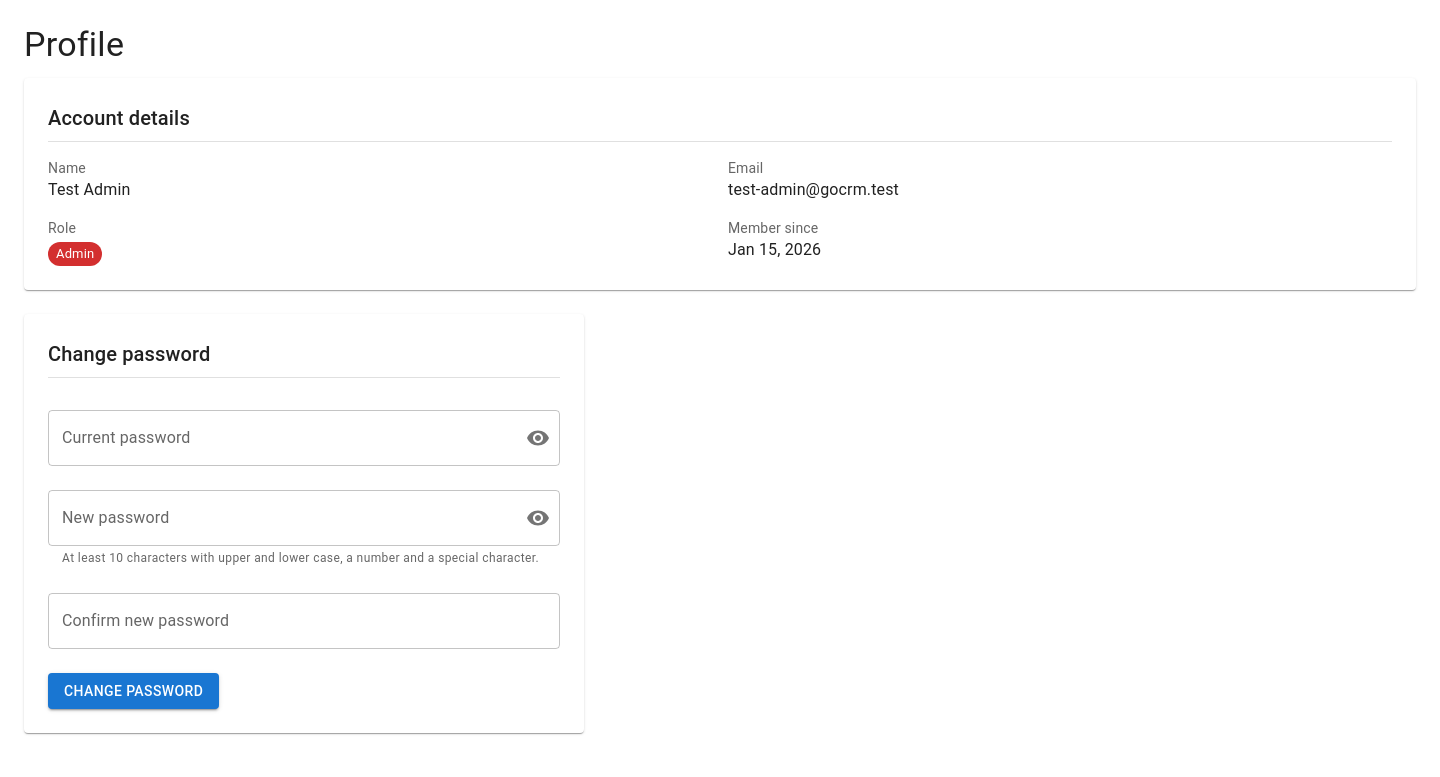
Test: Profile › changes the password and reports that other sessions were signed out
The image size is (1440, 777).
In the password field labelled "Current password": [279, 438] box [48, 410, 510, 466], type "OldStrongPass1!"
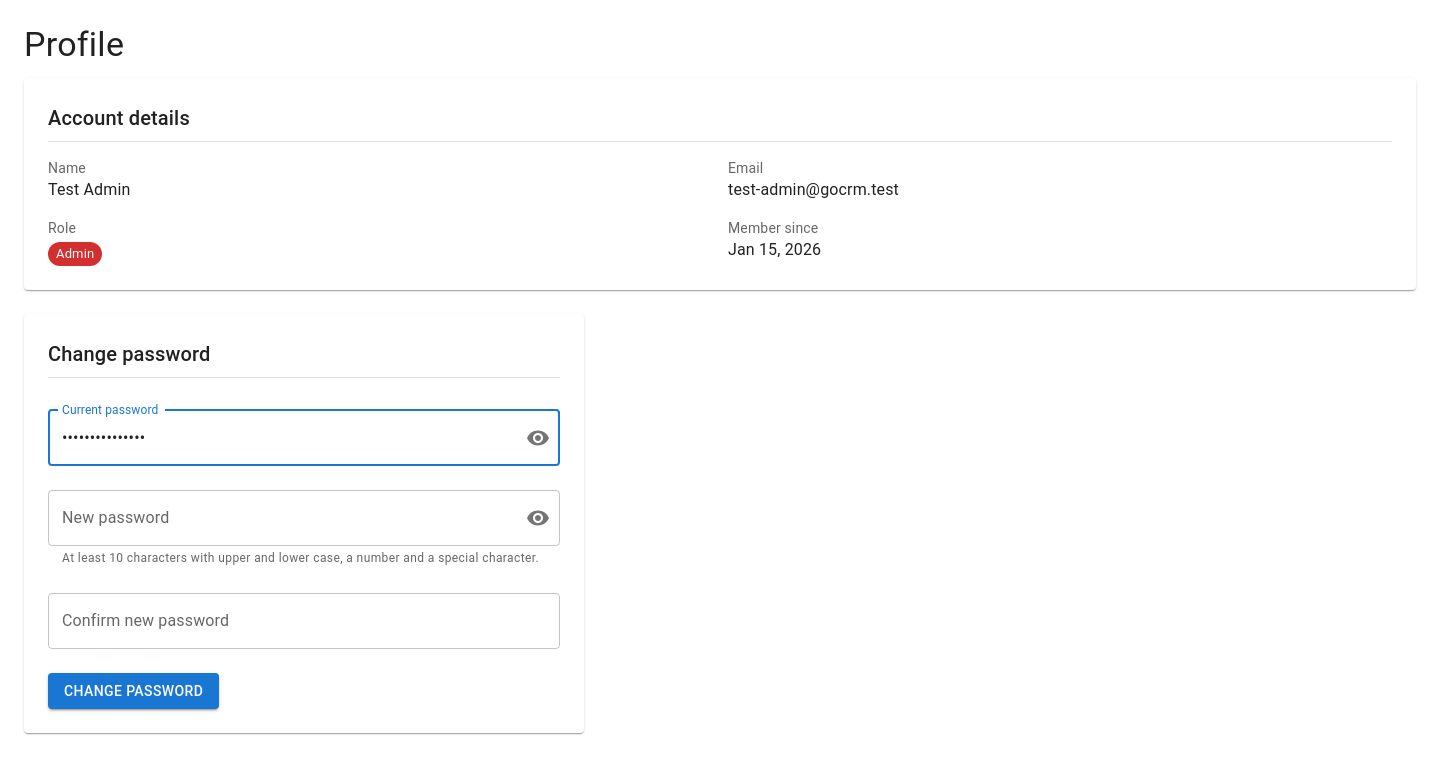
In the password field labelled "New password": [279, 518] box [48, 490, 510, 546], type "NewStrongPass1!"
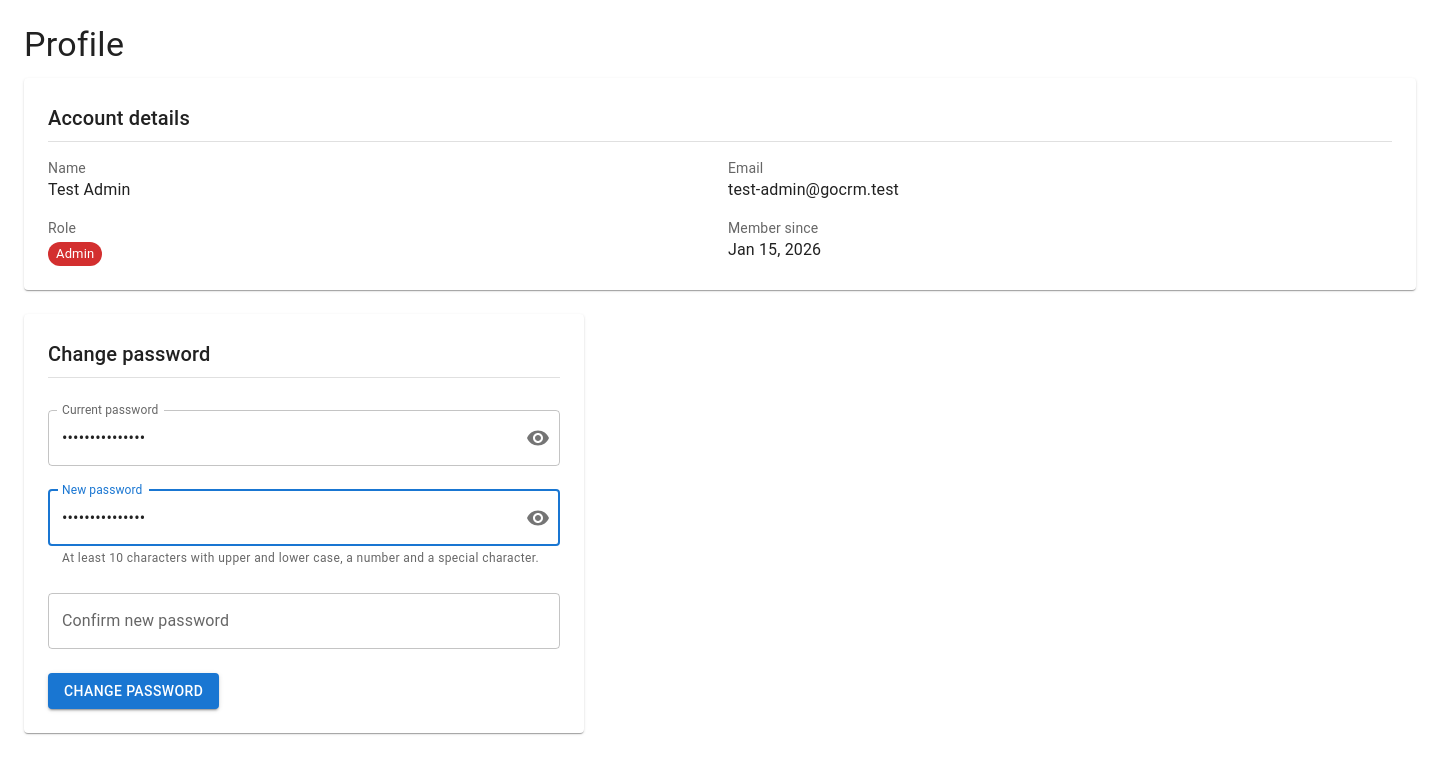
In the password field labelled "Confirm new password": [304, 621] box [48, 593, 560, 649], type "NewStrongPass1!"
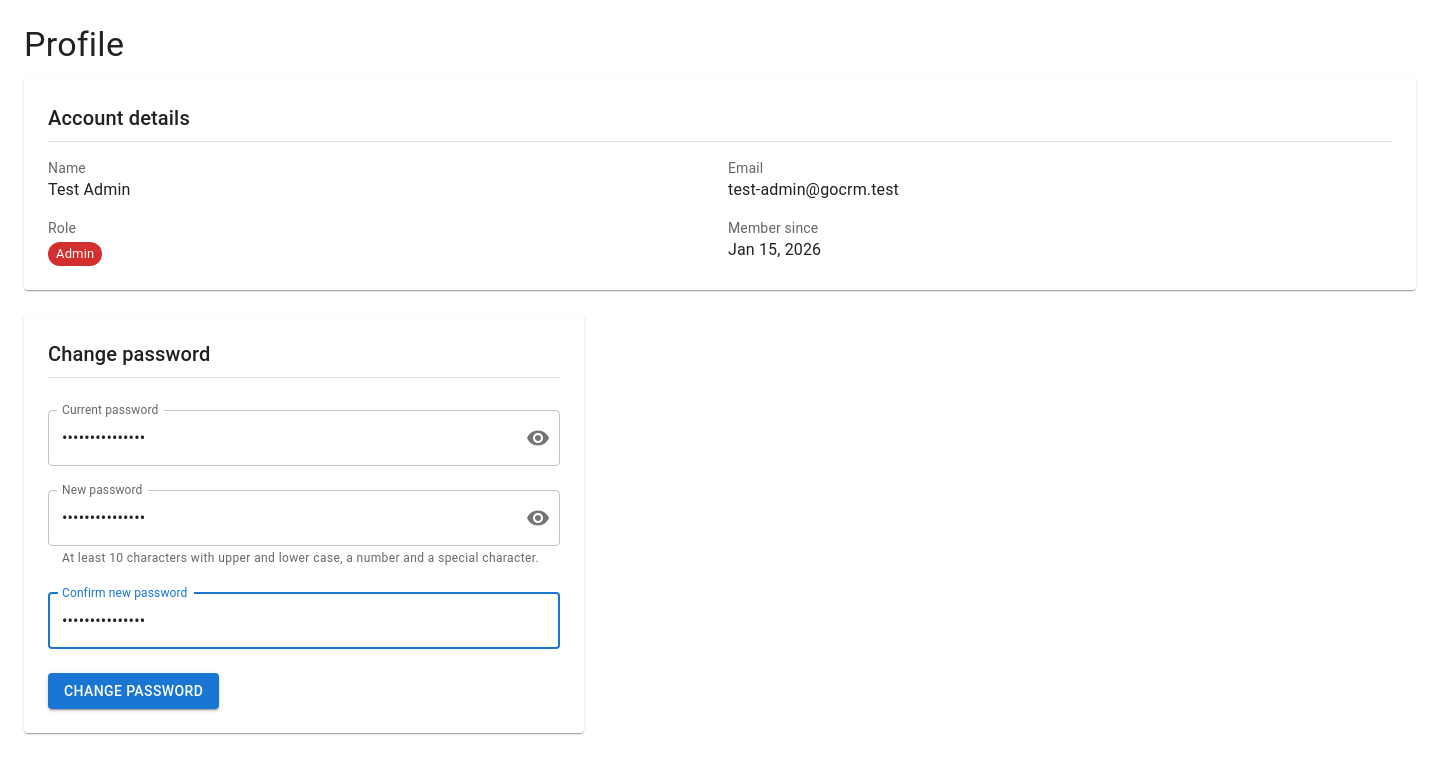
Click the button "Change password": [134, 691] box [48, 673, 219, 709]
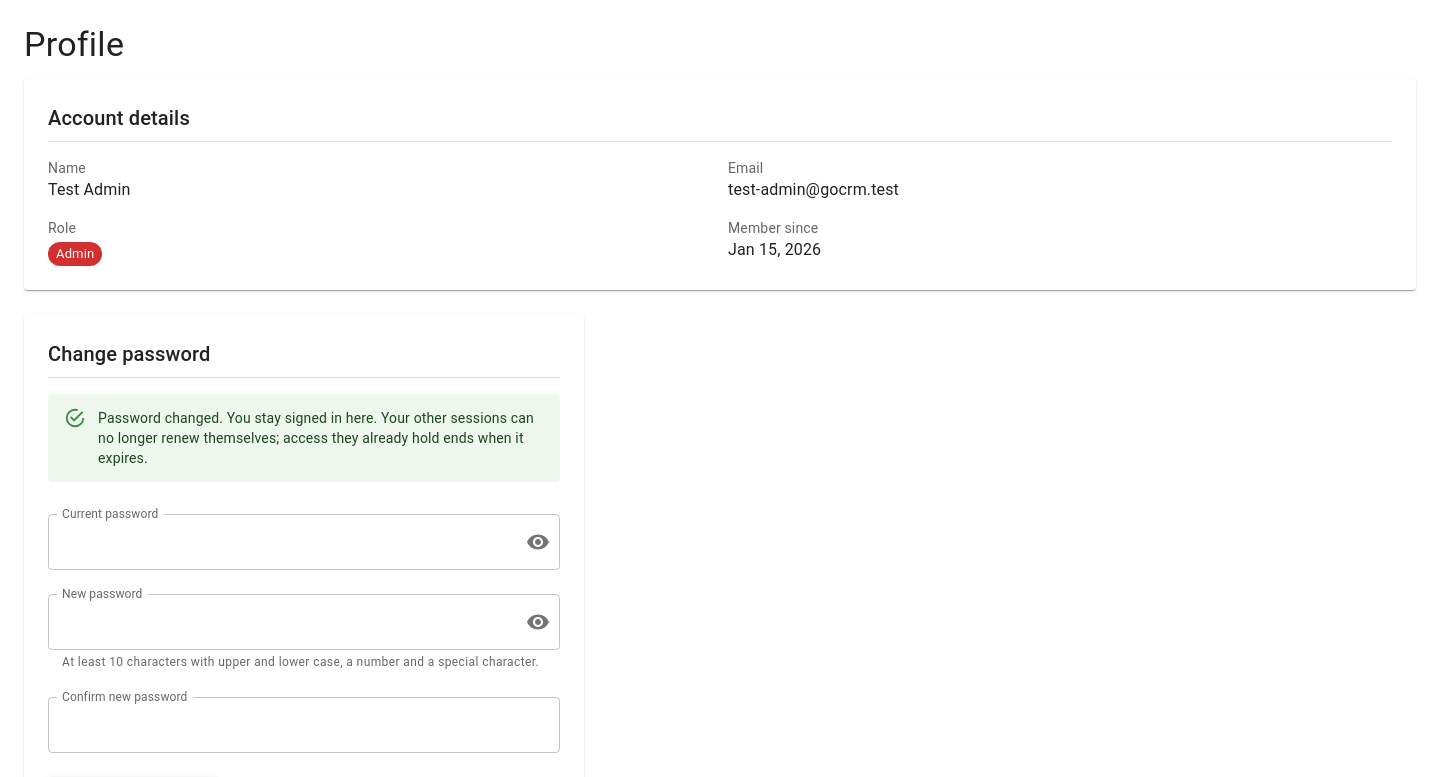
expect the text "You stay signed in here" does not show "signed out immediately": met, box [98, 400, 544, 476]
expect the text "You stay signed in here" shows "other sessions can no longer renew themselves": met, box [98, 410, 534, 466]
expect the text "You stay signed in here" shows "access they already hold ends when it expires": met, box [98, 410, 534, 466]
